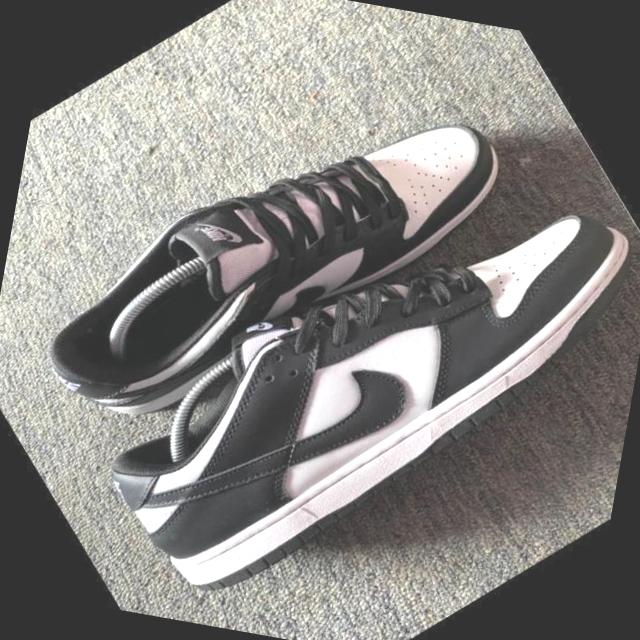nike_original_jordan: (43, 56, 640, 640), (0, 0, 555, 527)
